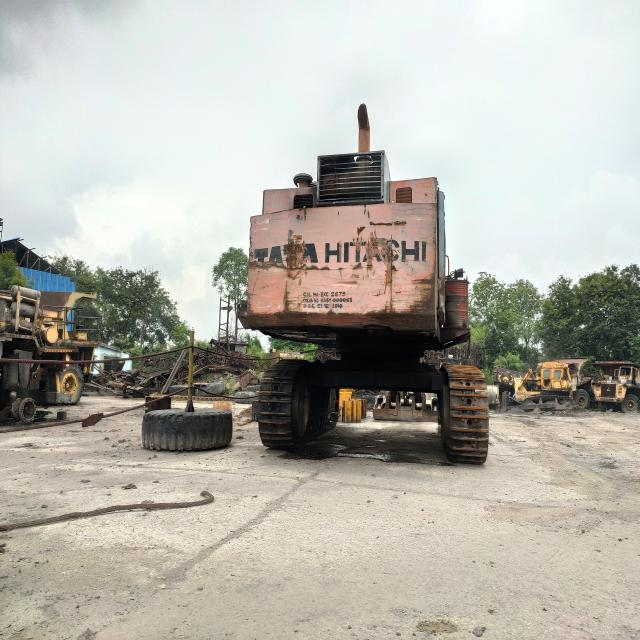excavator: (235, 108, 488, 465)
